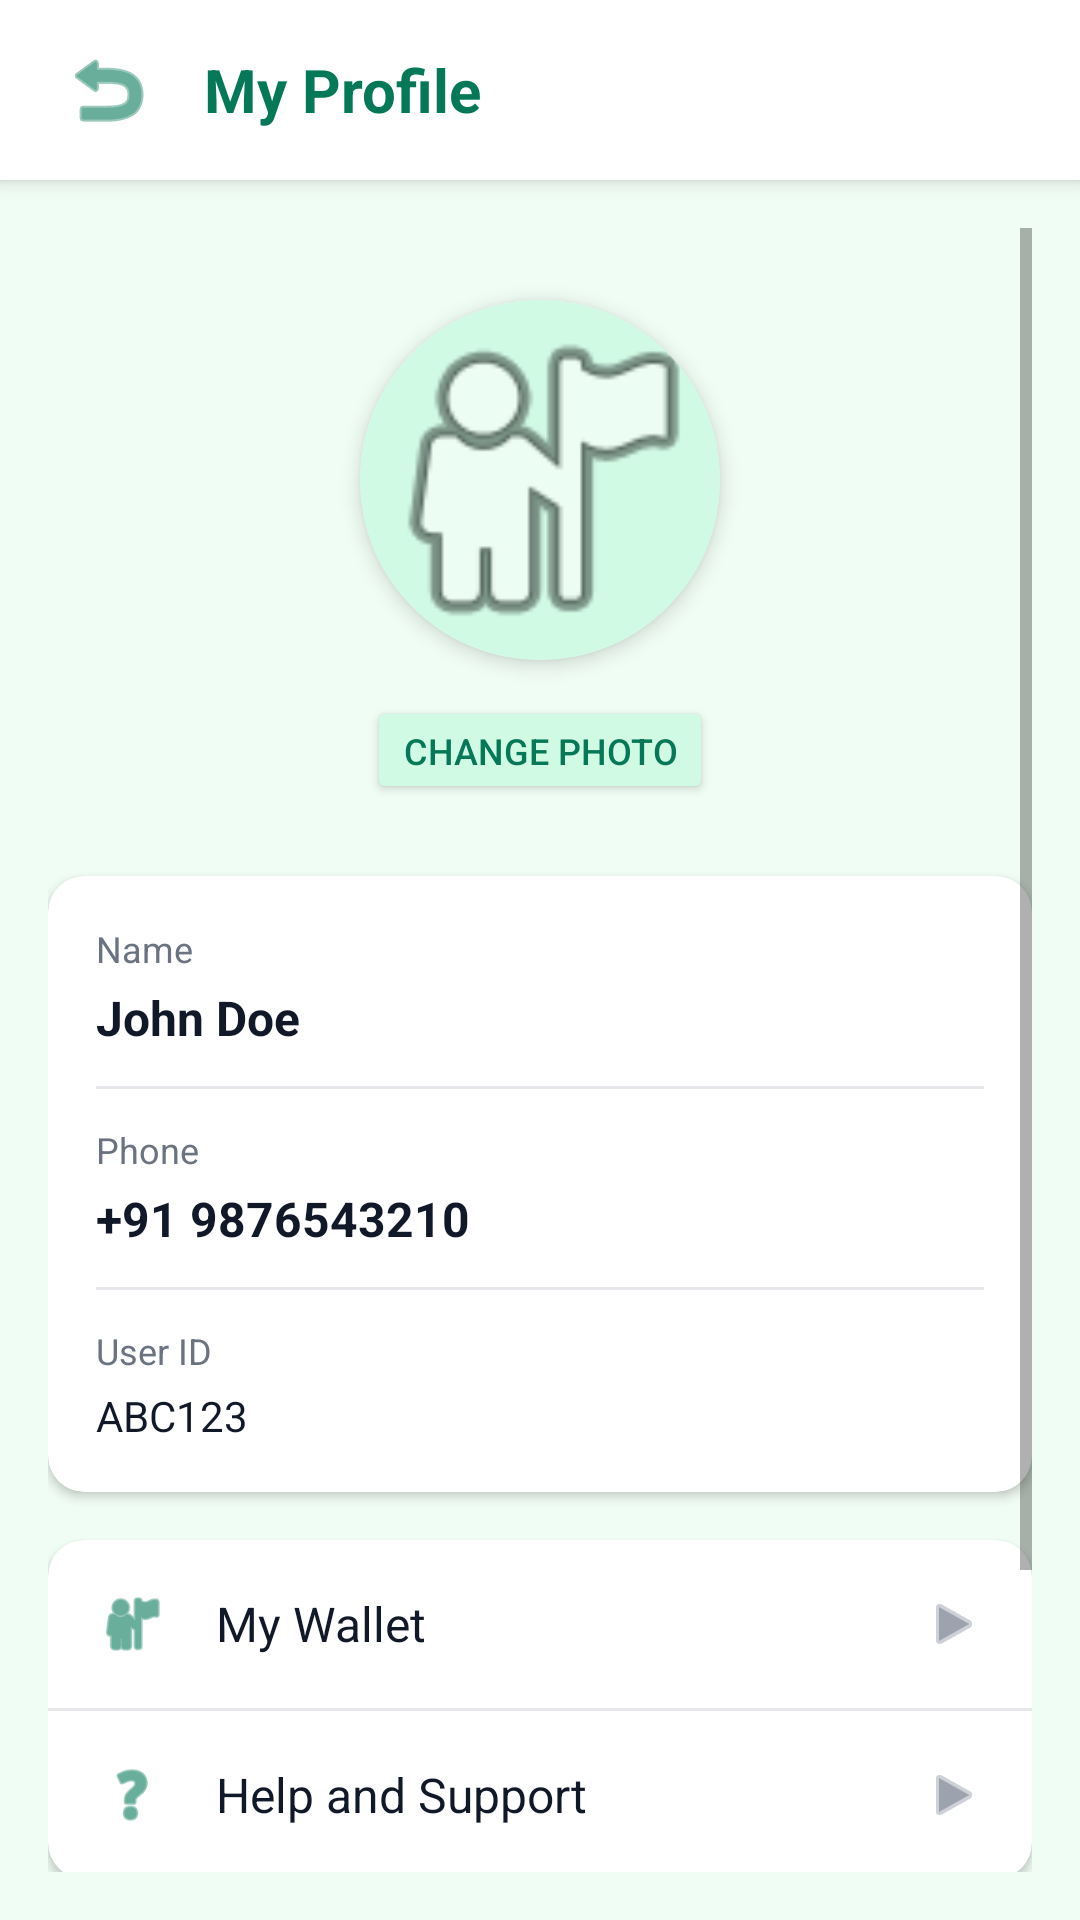

Icons on this 1080px x 1920px Android screen, each with the point to tap as point (x, y):
myplaces: point (540, 480), point (133, 1624)
play: point (954, 1624), point (954, 1795)
revert: point (109, 90)
